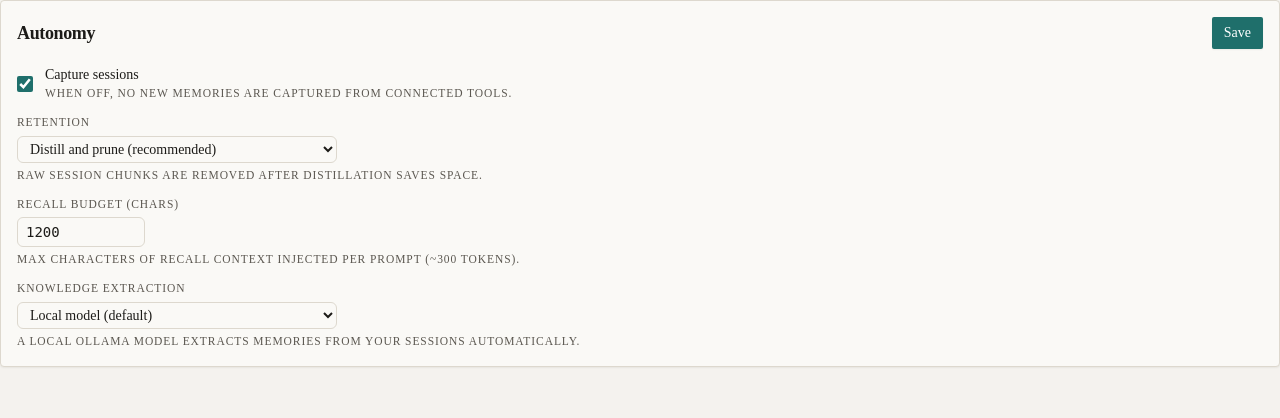
Test: AutonomySettings › shows error alert when save fails
The width and height of the screenshot is (1280, 418).
Click the button "Save": (1237, 33) [1212,17,1263,49]
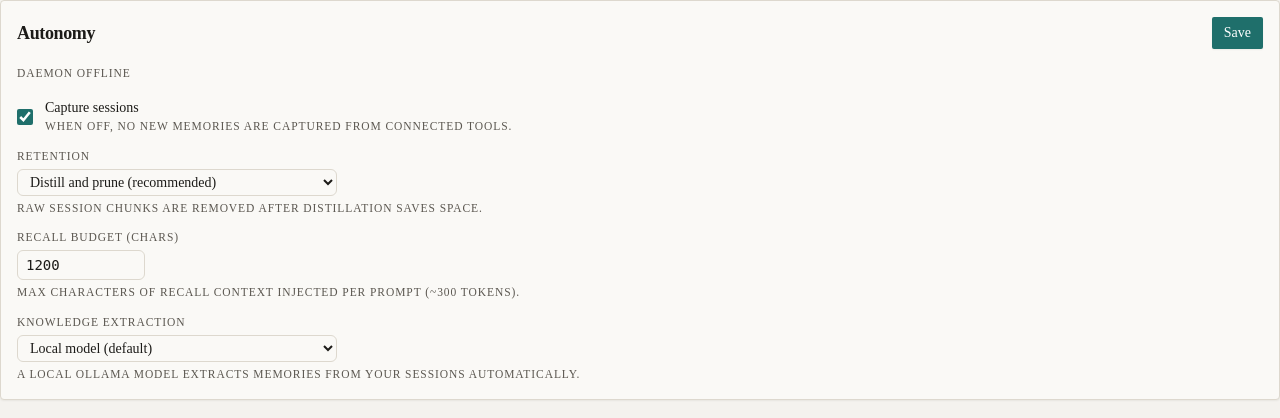
Check: the message "daemon offline" is shown, box [17,67,131,79]
